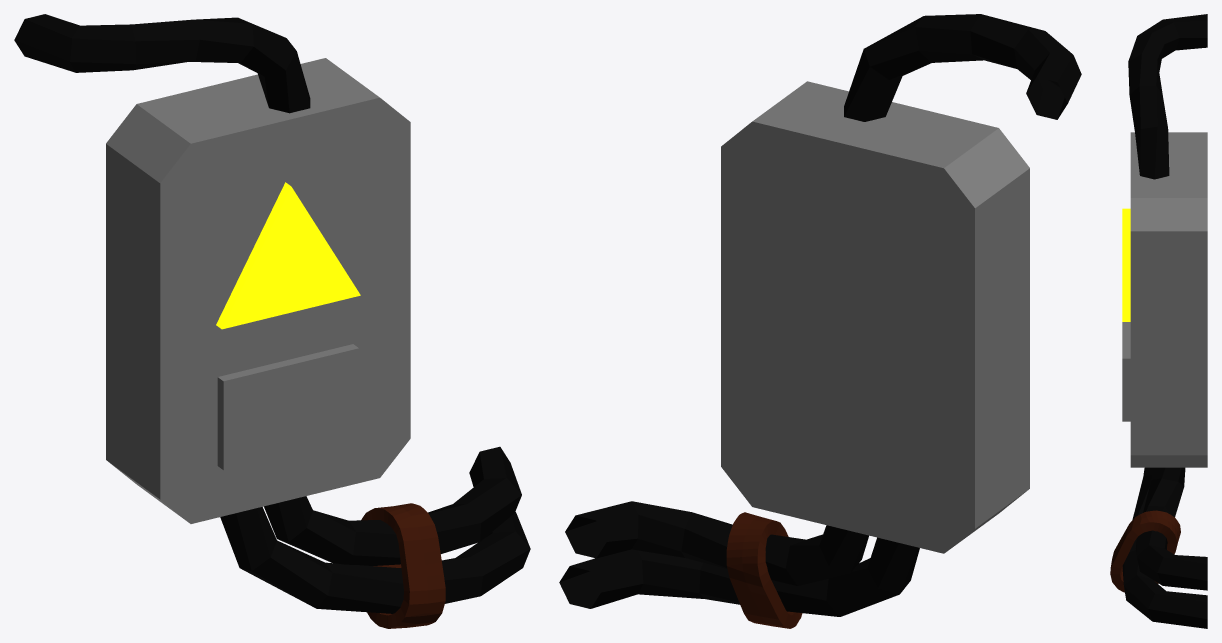
The model's file is ElectricalBox.fbx.
The picture shows the model from 3 angles, left to right: view 1: azimuth 30°, elevation 25°; view 2: azimuth 150°, elevation 25°; view 3: azimuth 270°, elevation 25°; orthographic projection. The views are drawn at different scales.
Parts seen in each view (by area): view 1: cable.003; view 2: cable.003; view 3: cable.003.
Boxes of the visible parts, left/top/right/bottom form: cable.003: left=14, top=14, right=530, bottom=628; cable.003: left=559, top=14, right=1081, bottom=628; cable.003: left=1110, top=14, right=1207, bottom=628.
Bounding box in the file's own units: 49.95 × 62.56 × 11.83.
